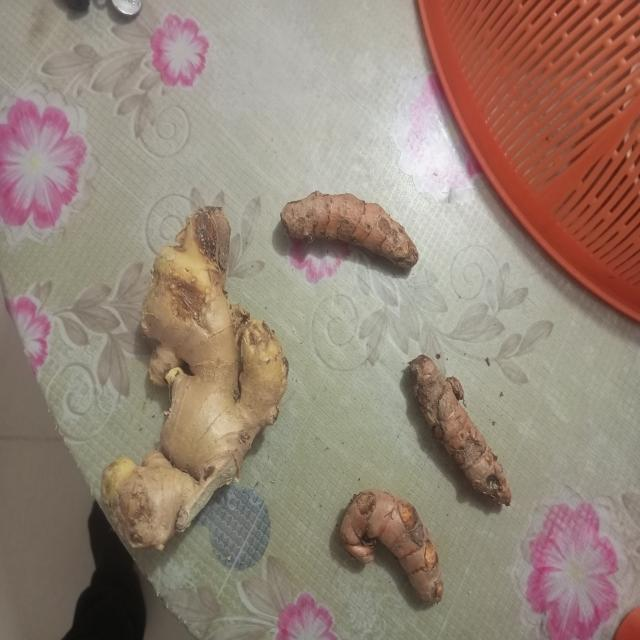ginger: (115, 223, 278, 535), (414, 357, 506, 504), (341, 488, 443, 602), (283, 192, 414, 266)
